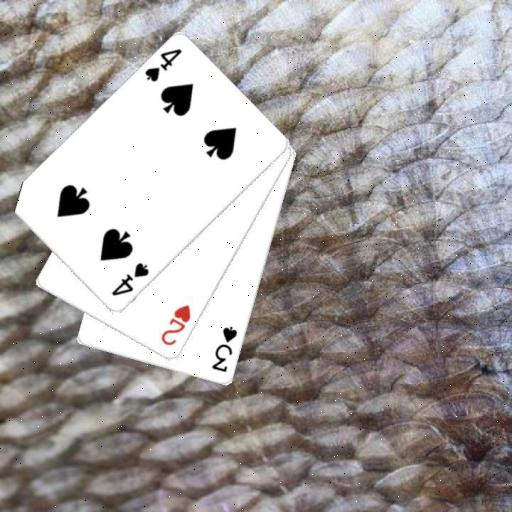2H: (157, 302, 193, 348)
3S: (209, 324, 239, 374)
4S: (109, 260, 151, 298), (141, 46, 183, 84)
